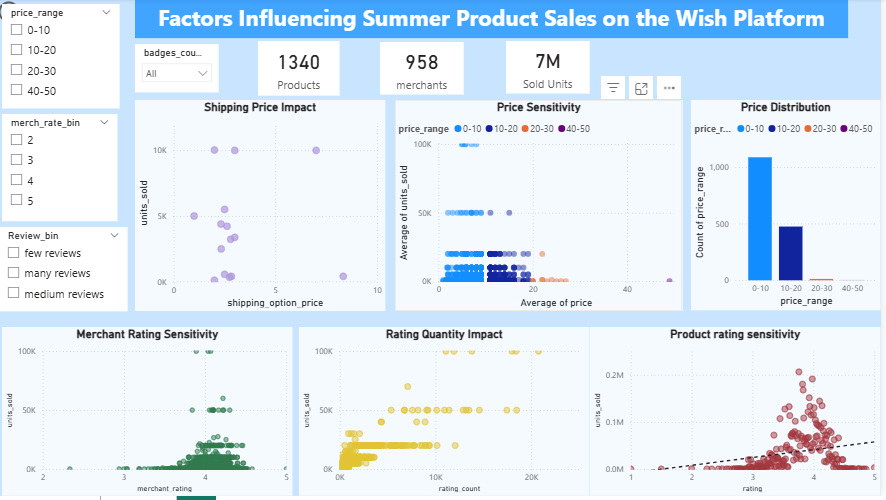

What the dashboard file says about the page in this screenshot:
{"tool":"powerbi","page":{"name":"Page 1","canvas":[1280,720],"ordinal":0},"visuals":[{"type":"scatterChart","title":"Price Sensitivity","fields":{"Category":["Dim_product.Product_Index_ID"],"Y":["Avg(Fact_summer_products_PBI.units_sold)"],"X":["Avg(Fact_summer_products_PBI.price)"],"Series":["Fact_summer_products_PBI.price_range"]},"box":[578.2,147.5,415.7,305.5],"z":0},{"type":"card","fields":{"Values":["Count(Fact_summer_products_PBI.product_id)"]},"box":[380,62.6,117.7,79],"z":1000},{"type":"actionButton","box":[0,0,100,40],"z":2000},{"type":"columnChart","title":"Price Distribution","fields":{"Category":["Fact_summer_products_PBI.price_range"],"Y":["CountNonNull(Fact_summer_products_PBI.price_range)"],"Series":["Fact_summer_products_PBI.price_range"]},"box":[1005.8,147.5,274.2,304],"z":3000},{"type":"textbox","box":[202.7,0,1031.2,58.1],"z":4000},{"type":"card","fields":{"Values":["Sum(Fact_summer_products_PBI.units_sold)"]},"box":[739.1,62.6,120.7,76],"z":5000},{"type":"card","fields":{"Values":["CountNonNull(Dim_merchant.merch_index_ID)"]},"box":[557.3,64.1,120.7,76],"z":6000},{"type":"scatterChart","title":"Rating Quantity Impact","fields":{"X":["Dim_product.rating_count"],"Y":["Sum(Fact_summer_products_PBI.units_sold)"]},"box":[439.6,475.3,420.2,244.4],"z":7000},{"type":"scatterChart","title":"Merchant Rating Sensitivity","fields":{"Y":["Avg(Fact_summer_products_PBI.units_sold)"],"Category":["Dim_merchant.merchant_id"],"X":["Dim_merchant.merchant_rating"]},"box":[10.4,475.3,420.2,244.4],"z":8000},{"type":"scatterChart","title":"Product rating sensitivity","fields":{"X":["Dim_product.rating"],"Y":["Sum(Fact_summer_products_PBI.units_sold)"]},"box":[859.8,475.3,420.2,244.4],"z":9000},{"type":"slicer","fields":{"Values":["Dim_product.badges_count"]},"box":[202.7,67.1,120.7,70],"z":10000},{"type":"scatterChart","title":"Shipping Price Impact","fields":{"Y":["Avg(Fact_summer_products_PBI.units_sold)"],"X":["Avg(Fact_summer_products_PBI.shipping_option_price)"],"Category":["Fact_summer_products_PBI.shipping_option_name"]},"box":[202.7,147.5,362.1,305.5],"z":11000},{"type":"slicer","fields":{"Values":["Fact_summer_products_PBI.price_range"]},"box":[10.4,8.9,169.9,150.5],"z":12000},{"type":"slicer","fields":{"Values":["Dim_merchant.merch_rate_bin"]},"box":[10.4,168.4,166.9,155],"z":13000},{"type":"slicer","fields":{"Values":["Fact_summer_products_PBI.Review_bin"]},"box":[6,330.8,186.3,122.2],"z":14000}]}

Visuals, with their boxes in screenshot pixels (x1, y1, x2, y2), scaled from the page's 1280x720 canvas onto the 886x500 screenshot:
"Price Sensitivity" scatterChart: region(400, 102, 688, 315)
card - Count(Fact_summer_products_PBI.product_id): region(263, 43, 345, 98)
actionButton: region(0, 0, 69, 28)
"Price Distribution" columnChart: region(696, 102, 885, 314)
textbox: region(140, 0, 854, 40)
card - Sum(Fact_summer_products_PBI.units_sold): region(512, 43, 595, 96)
card - CountNonNull(Dim_merchant.merch_index_ID): region(386, 45, 469, 97)
"Rating Quantity Impact" scatterChart: region(304, 330, 595, 499)
"Merchant Rating Sensitivity" scatterChart: region(7, 330, 298, 499)
"Product rating sensitivity" scatterChart: region(595, 330, 885, 499)
slicer - Dim_product.badges_count: region(140, 47, 224, 95)
"Shipping Price Impact" scatterChart: region(140, 102, 391, 315)
slicer - Fact_summer_products_PBI.price_range: region(7, 6, 125, 111)
slicer - Dim_merchant.merch_rate_bin: region(7, 117, 123, 225)
slicer - Fact_summer_products_PBI.Review_bin: region(4, 230, 133, 315)
